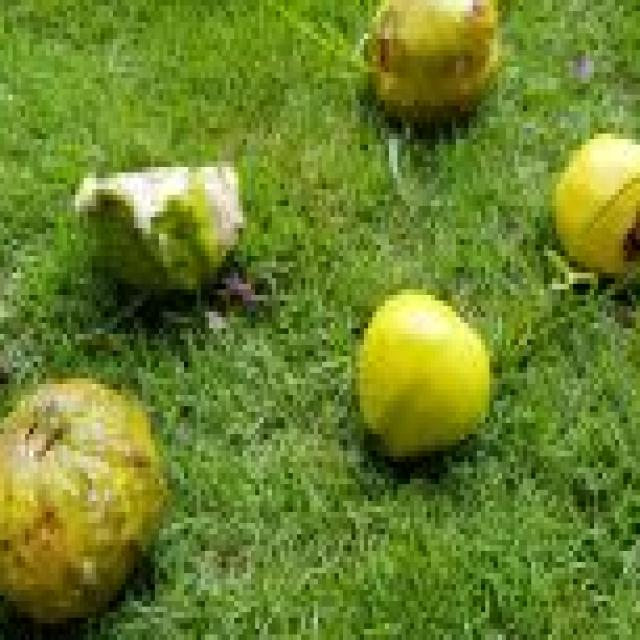Bad_Guava 0 day: (0, 378, 172, 634), (71, 161, 255, 312), (360, 0, 502, 145)
Good_Guava 5-7 days: (351, 295, 494, 473), (548, 134, 640, 284)
